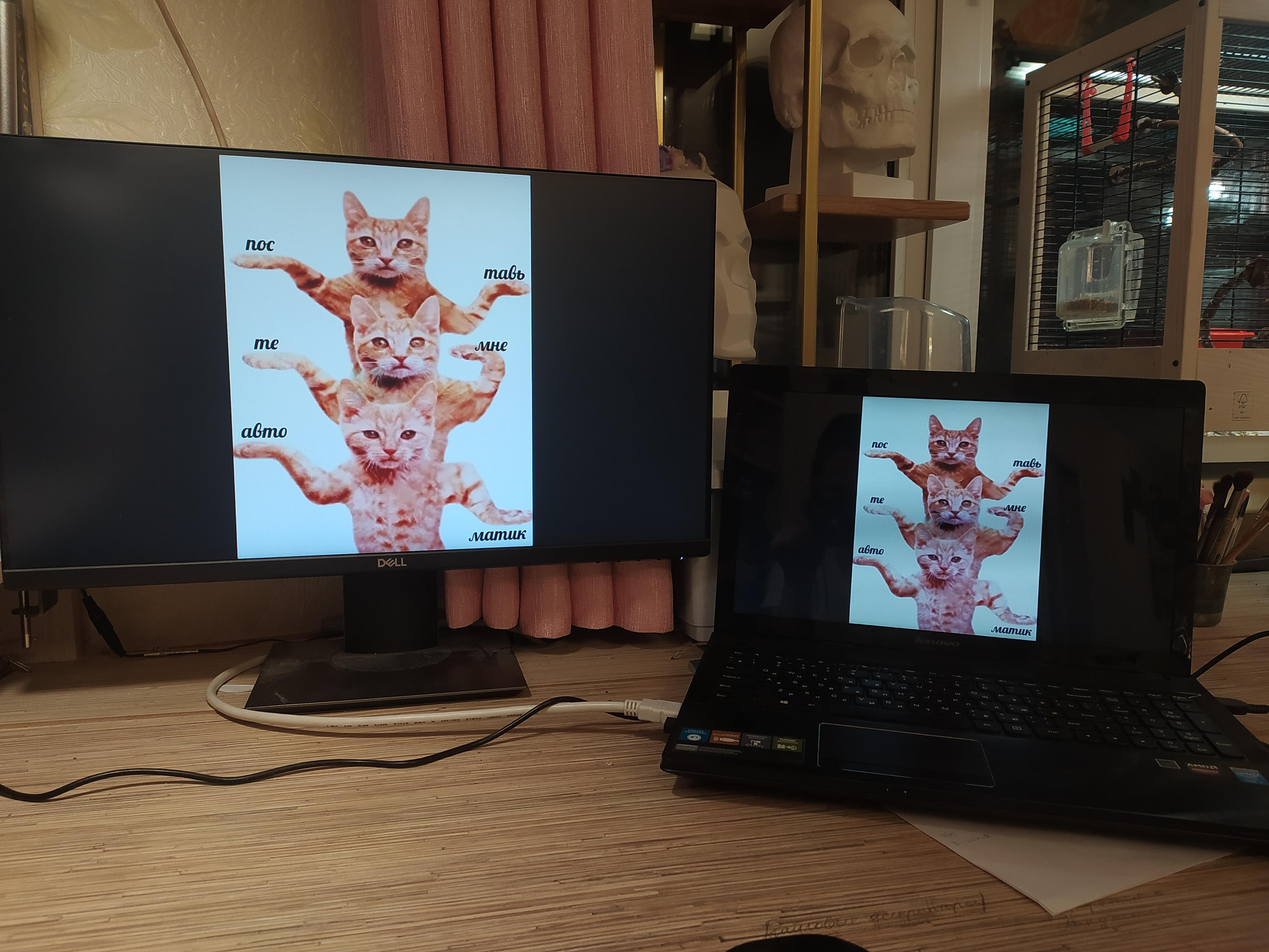monitor: (0, 129, 723, 597), (711, 357, 1215, 682)
